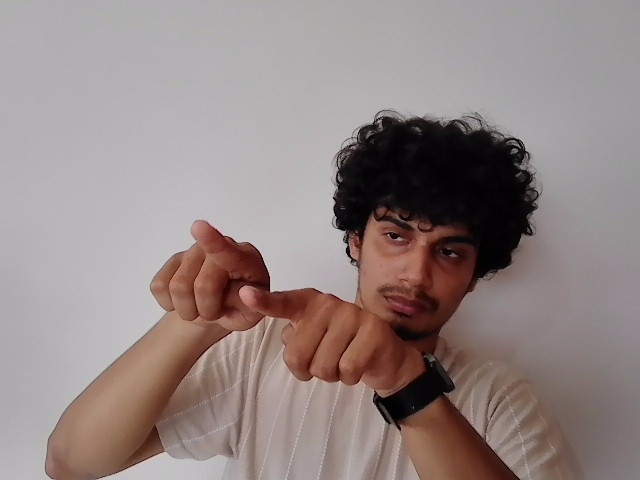same: (150, 219, 395, 391)
